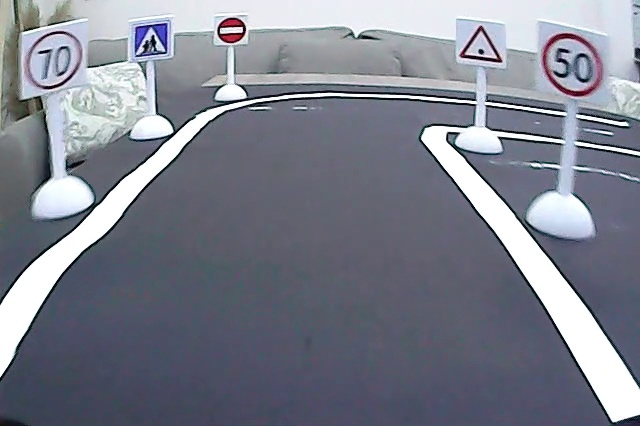do not enter: (216, 16, 249, 45)
green light: (456, 20, 504, 65)
school crossing: (131, 21, 171, 60)
speed limit 50: (539, 30, 606, 102)
speed limit 70: (24, 29, 85, 92)
